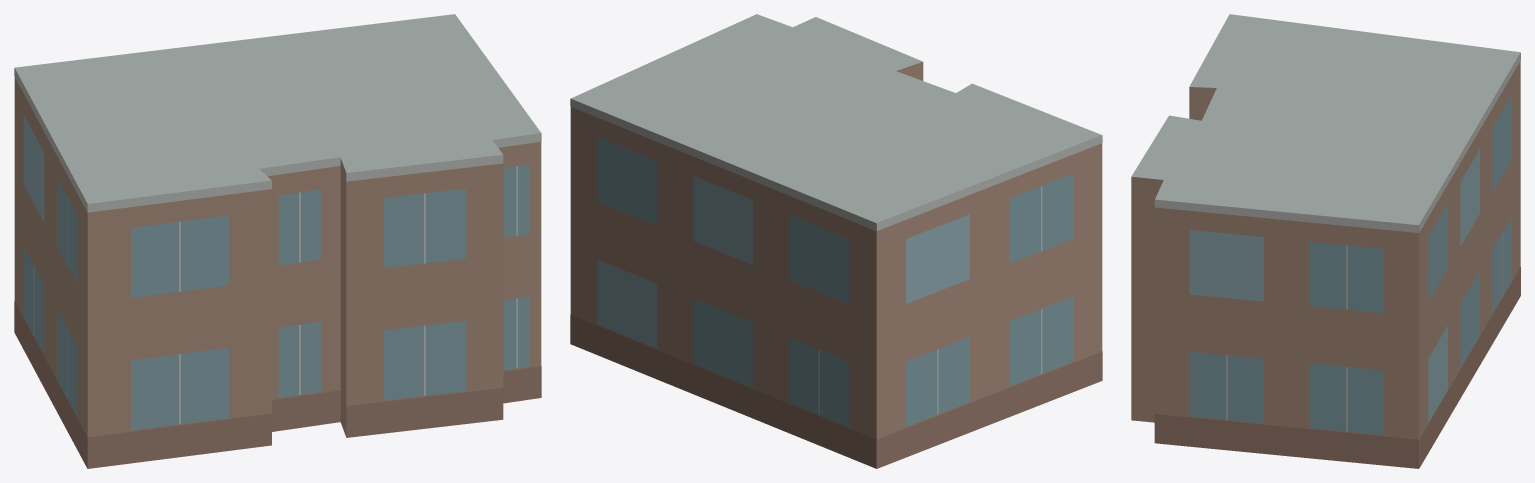
The model's file is survey-upis-32535320.glb.
3 views of the same model, side by side, from view 1: azimuth 30°, elevation 25°; view 2: azimuth 150°, elevation 25°; view 3: azimuth 270°, elevation 25° (orthographic). The views are drawn at different scales.
Parts seen in each view (by area): view 1: survey-upis-32535320.tmp; view 2: survey-upis-32535320.tmp; view 3: survey-upis-32535320.tmp.
Boxes of the visible parts, left/top/right/bottom form: survey-upis-32535320.tmp: left=14, top=14, right=541, bottom=468; survey-upis-32535320.tmp: left=570, top=14, right=1102, bottom=468; survey-upis-32535320.tmp: left=1131, top=14, right=1520, bottom=468.
Size of the model in its own units: 14.05 by 7.55 by 10.95.
